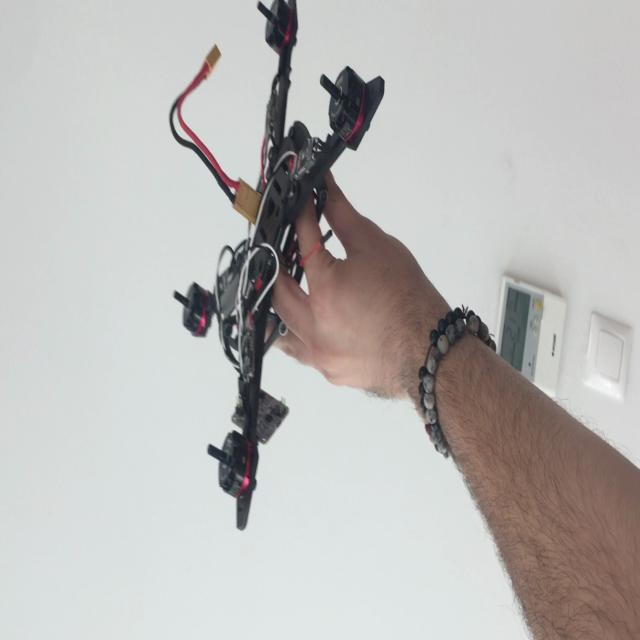drone: (156, 4, 394, 531)
